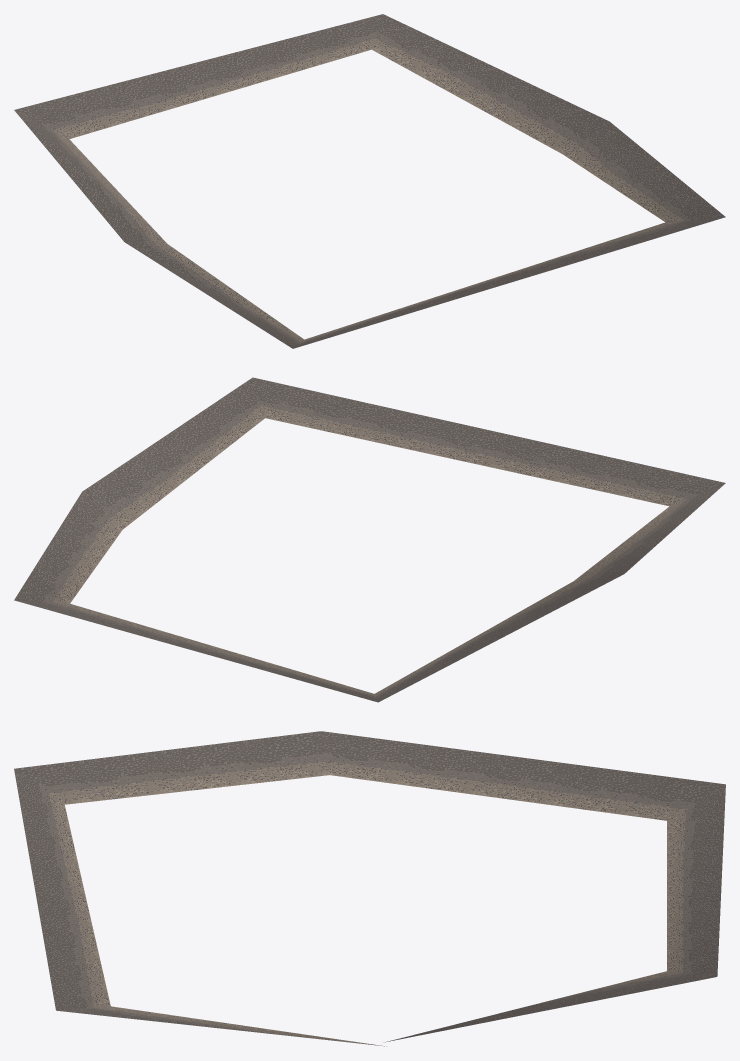
The model's file is kd_stage_135b75_4_154.glb.
The picture shows the model from 3 angles, top to bottom: view 1: azimuth 30°, elevation 25°; view 2: azimuth 150°, elevation 25°; view 3: azimuth 270°, elevation 25°; orthographic projection. The views are drawn at different scales.
Parts seen in each view (by area): view 1: kd_stage_135b75_4_154; view 2: kd_stage_135b75_4_154; view 3: kd_stage_135b75_4_154.
Part boxes in pixels (x1,y1,x2,y2): kd_stage_135b75_4_154: [14, 14, 725, 348]; kd_stage_135b75_4_154: [14, 377, 725, 702]; kd_stage_135b75_4_154: [14, 731, 725, 1046].
Bounding box in the file's own units: 1.53 × 0.1381 × 1.62.
Materials: 1 (1 with a texture image).
